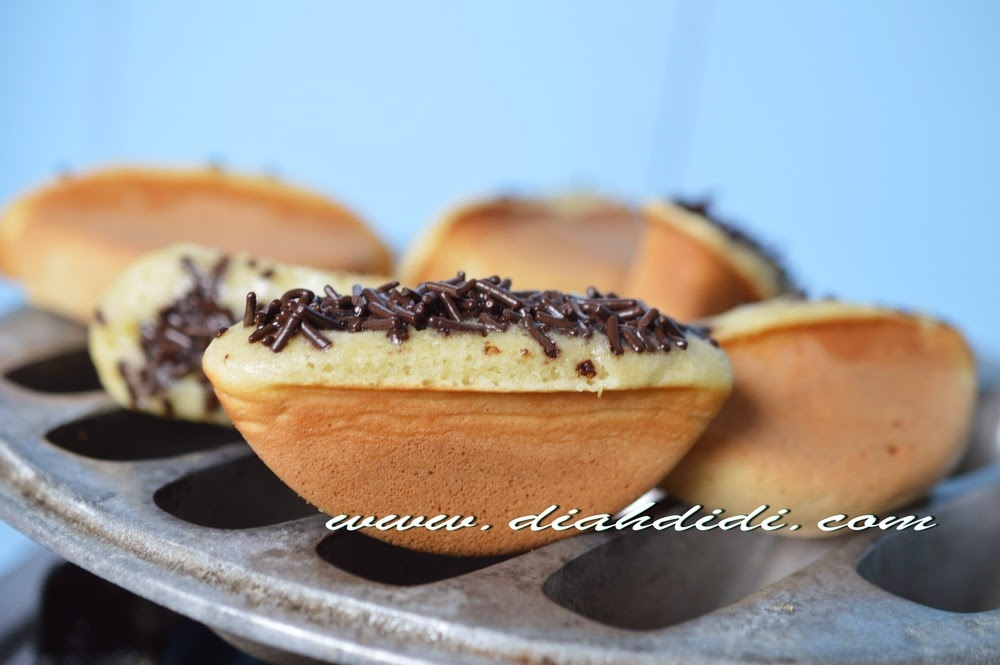pukis: (151, 241, 736, 554)
